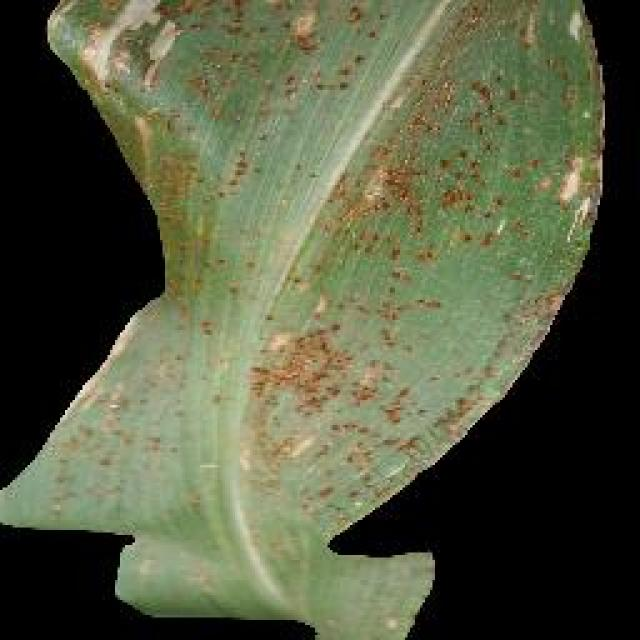Corn___Common_rust: (51, 0, 517, 492)
